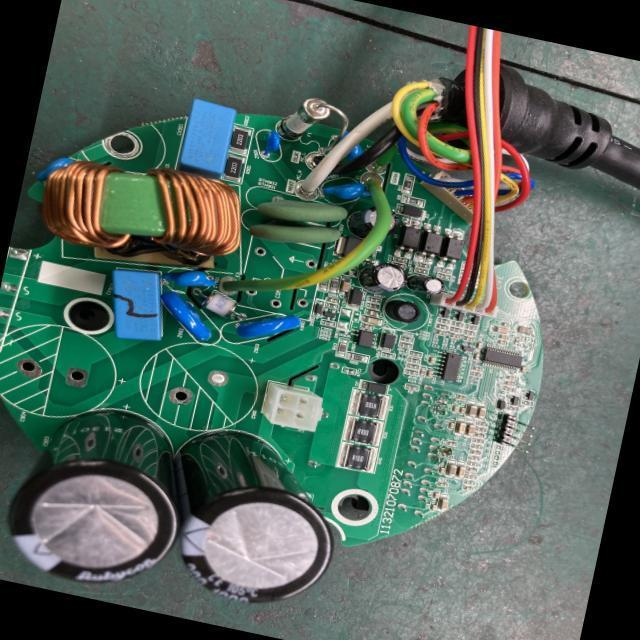damged: (439, 448, 451, 460)
